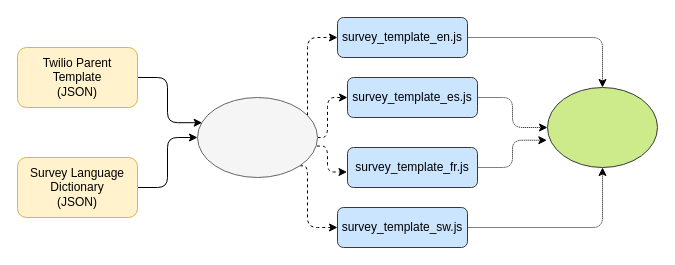
Some shapes in this 675 by 265 pixel diagram are drawn without their labels. Here are the shapes that lost their labels. From the top down, the centre of each, then its label:
pixel 257 137: Translation Service
pixel 602 127: Twilio Studio
